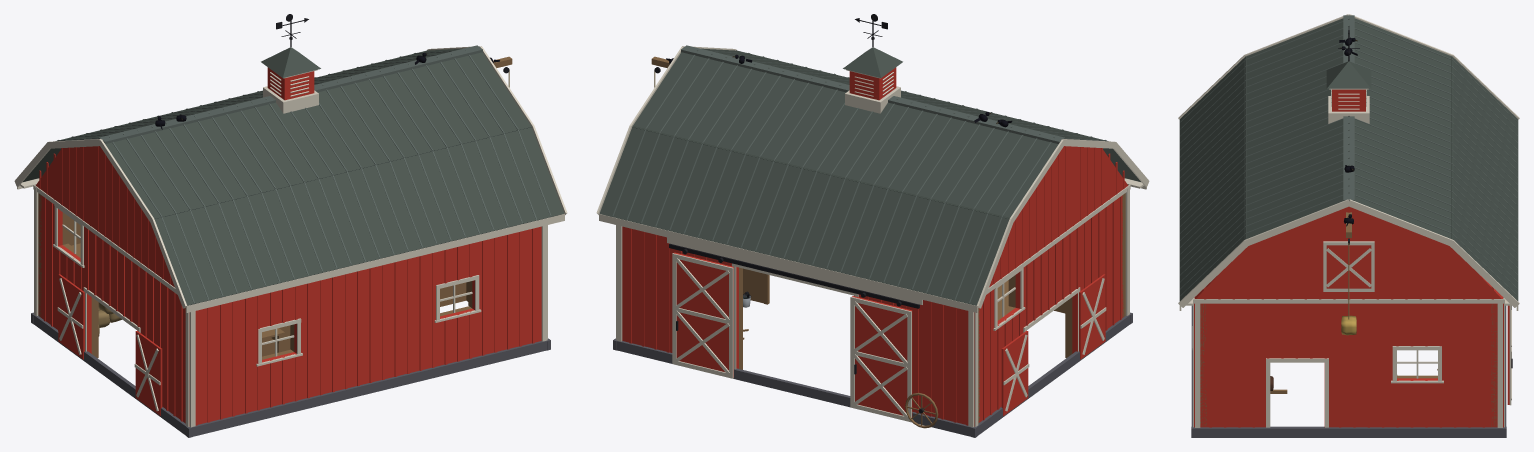
The model's file is hg-barn.glb.
3 views of the same model, side by side, from view 1: azimuth 30°, elevation 25°; view 2: azimuth 150°, elevation 25°; view 3: azimuth 270°, elevation 25° (orthographic).
Parts seen in each view (by area): view 1: hg-barn; view 2: hg-barn; view 3: hg-barn.
Boxes of the visible parts, box(x1,y1,x2,y2) form: hg-barn: box(14, 14, 567, 437); hg-barn: box(596, 14, 1149, 437); hg-barn: box(1178, 14, 1519, 437).
Size of the model in its own units: 14.05 by 10.38 by 9.97.
